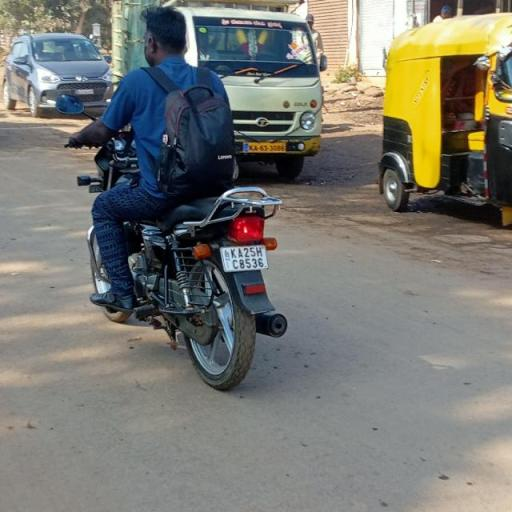bike: (52, 1, 300, 395)
numberplate: (216, 240, 274, 276)
withouthelmet: (144, 6, 188, 60)
